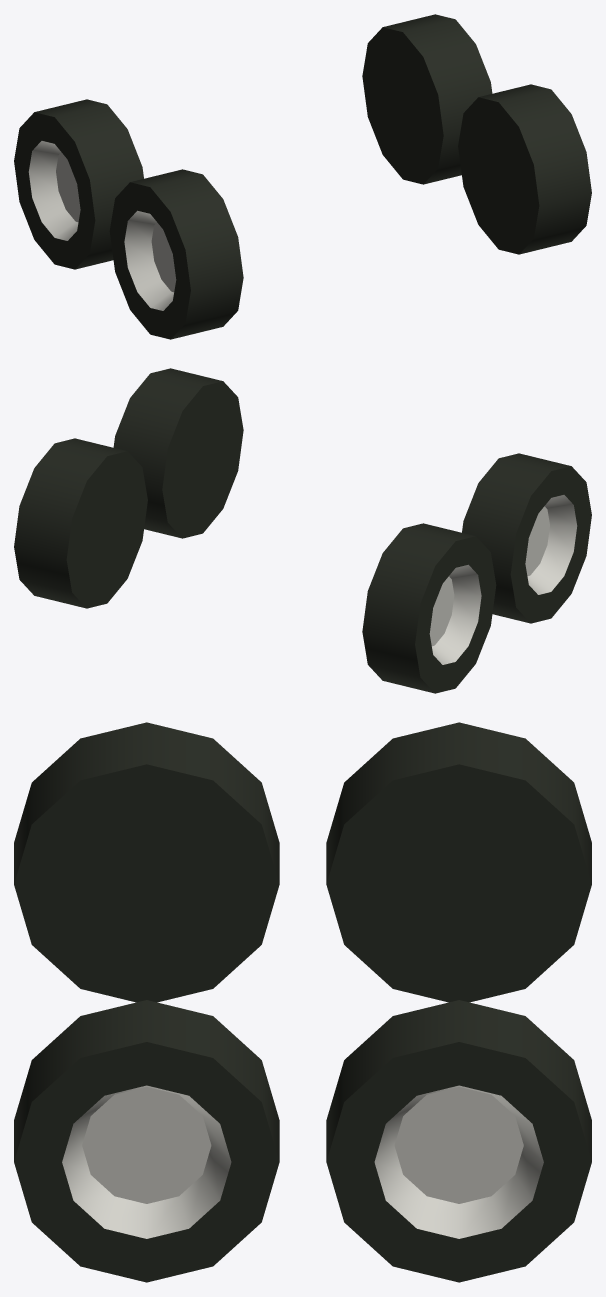
The model's file is teamtruck_back_wheels.fbx.
The picture shows the model from 3 angles, top to bottom: view 1: azimuth 30°, elevation 25°; view 2: azimuth 150°, elevation 25°; view 3: azimuth 270°, elevation 25°; orthographic projection. The views are drawn at different scales.
Visible parts, largest first — view 1: teamtruck_back_wheels; view 2: teamtruck_back_wheels; view 3: teamtruck_back_wheels.
Part boxes in pixels (x1,y1,x2,y2): teamtruck_back_wheels: (14,14,591,339); teamtruck_back_wheels: (14,368,591,693); teamtruck_back_wheels: (14,722,591,1282).
Size of the model in its own units: 230 by 176 by 80.95.
